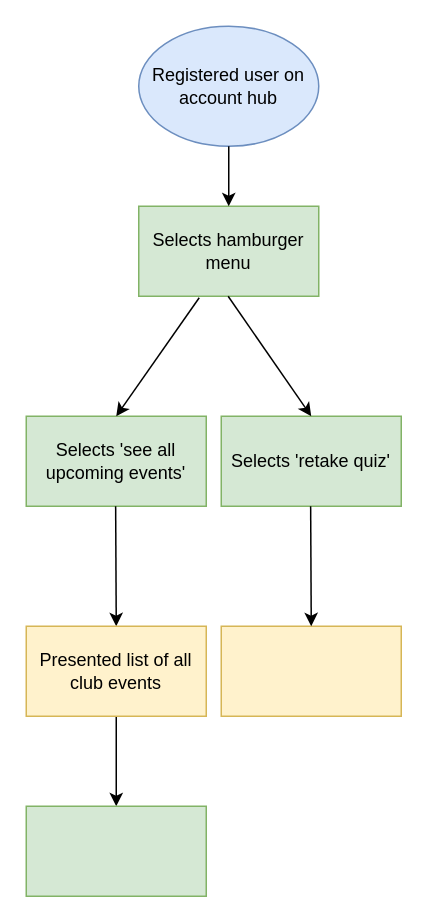
Image size: 428x923. Some labels were removed from this diagram. Each missing label, with the centre of its shape:
Led to new registration user flow, without the sign up section: the point at 310,670
Select individual events: the point at 115,850
